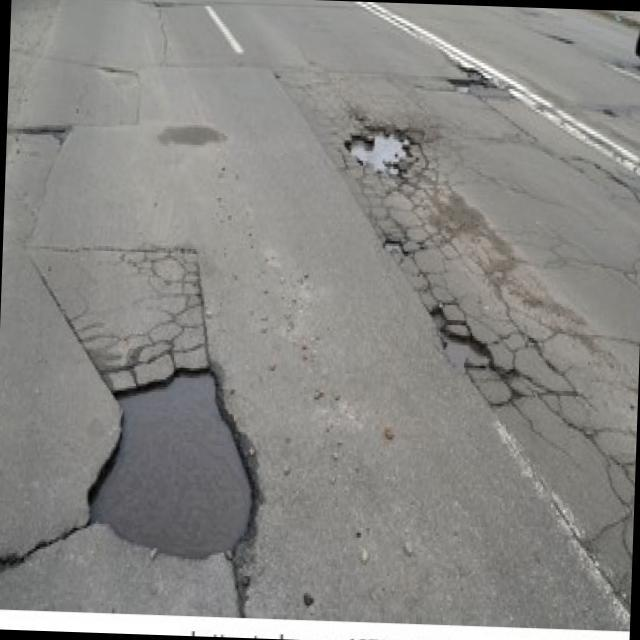Pothole: (84, 360, 258, 558), (343, 125, 412, 177), (436, 324, 494, 370), (449, 76, 486, 88), (430, 304, 448, 327), (382, 238, 406, 254), (460, 64, 480, 75)
